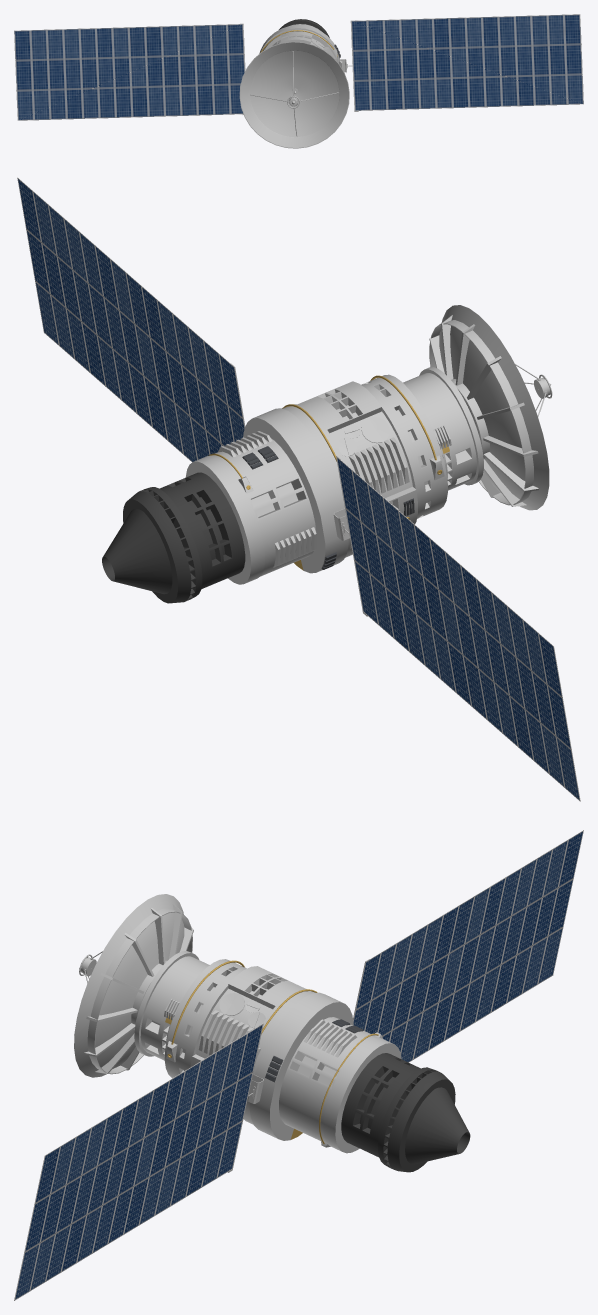
File: satellite.glb
The picture shows the model from 3 angles, top to bottom: view 1: azimuth 30°, elevation 25°; view 2: azimuth 150°, elevation 25°; view 3: azimuth 270°, elevation 25°; orthographic projection. The views are drawn at different scales.
Parts seen in each view (by area): view 1: Solar Panels_28, Disc_22, Body_2; view 2: Solar Panels_28, Body_2, Disc_22, Disc.Back_23, Grill1_3, Grill3_16, Small Discs_6; view 3: Solar Panels_28, Body_2, Disc_22, Disc.Back_23, Grill1_3, Grill3_16, Small Discs_6.
Boxes of the visible parts, x1,y1,x2,y2 form: Solar Panels_28: [14, 14, 583, 120]; Disc_22: [239, 41, 349, 148]; Body_2: [259, 19, 339, 63]; Solar Panels_28: [17, 177, 580, 801]; Body_2: [102, 367, 483, 603]; Disc_22: [429, 305, 549, 510]; Disc.Back_23: [429, 315, 538, 506]; Grill1_3: [348, 437, 409, 493]; Grill3_16: [218, 431, 316, 567]; Small Discs_6: [337, 416, 389, 456]; Solar Panels_28: [14, 830, 583, 1300]; Body_2: [134, 951, 470, 1172]; Disc_22: [74, 894, 192, 1077]; Disc.Back_23: [84, 904, 193, 1073]; Grill1_3: [198, 1010, 254, 1055]; Grill3_16: [304, 1019, 357, 1057]; Small Discs_6: [219, 993, 265, 1028].
Bounding box in the file's own units: 13.08 × 3.6 × 8.46.
5 materials, 1 textured.
